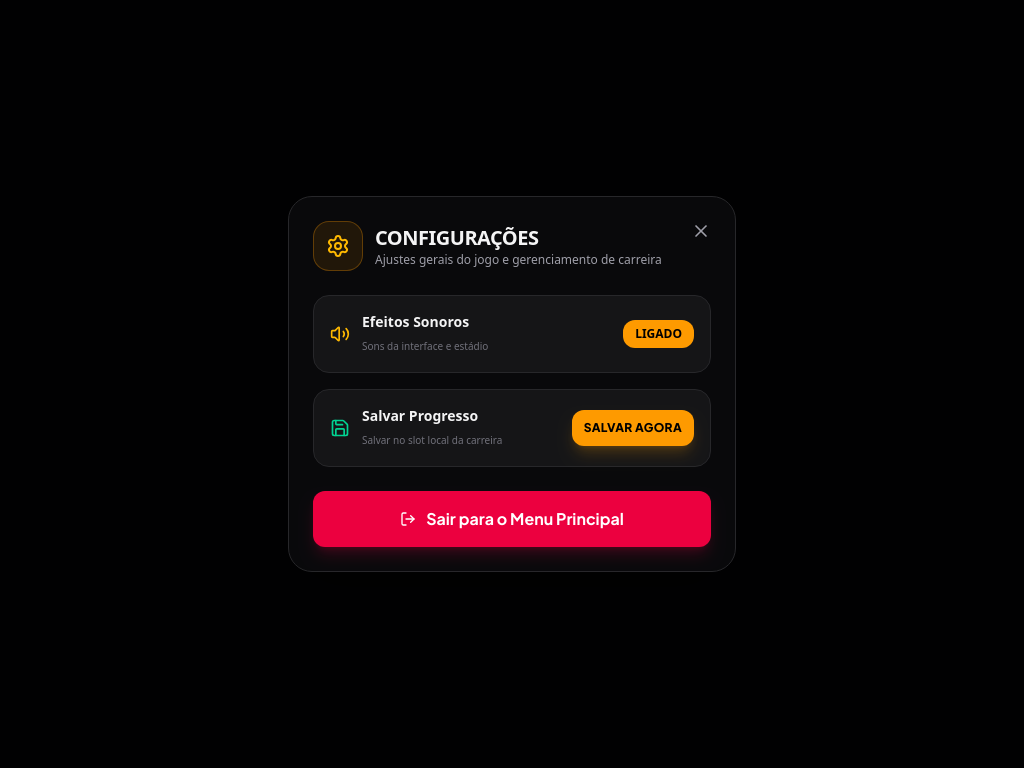
Scenario: Complete Navigation & Keyboard Shortcuts — GOAT Simulator › opens and closes Settings Modal securely with save controls
Check: the text "Ajustes gerais do jogo e gerenciamento de carreira" is shown, box [375, 252, 662, 268]
Check: the text "Efeitos Sonoros" is shown, box [362, 312, 469, 331]
Click the button "Sair para o Menu Principal" at [512, 519], box [313, 491, 711, 547]
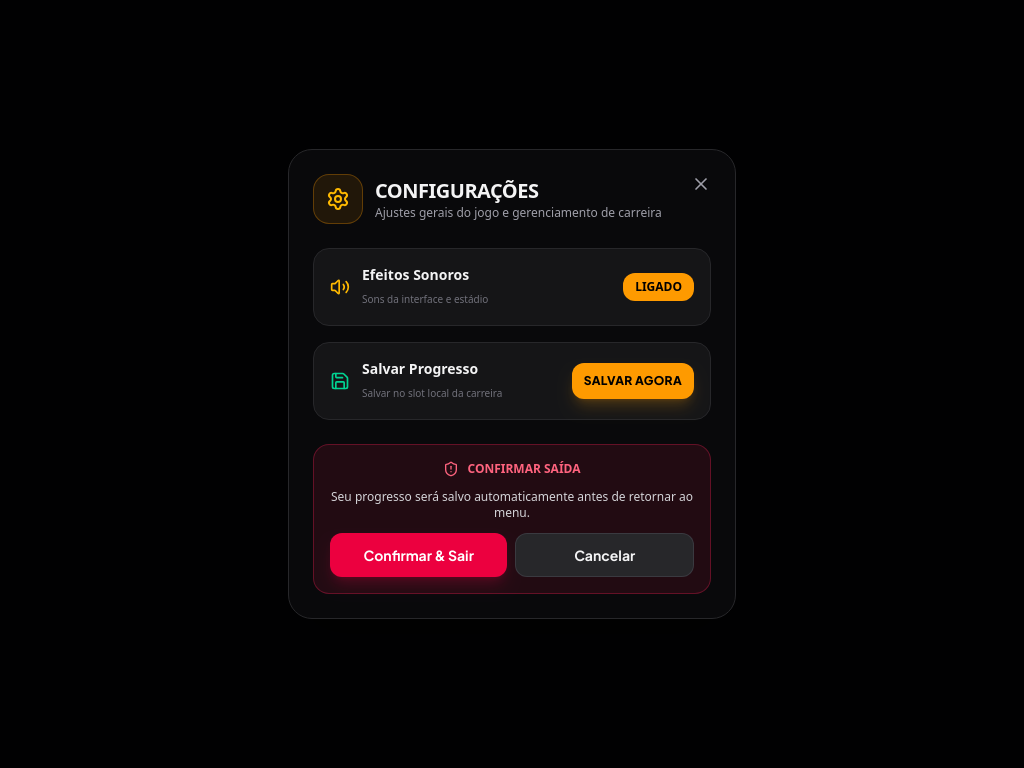
Check: the text "Confirmar Saída" is shown, box [444, 460, 580, 477]
